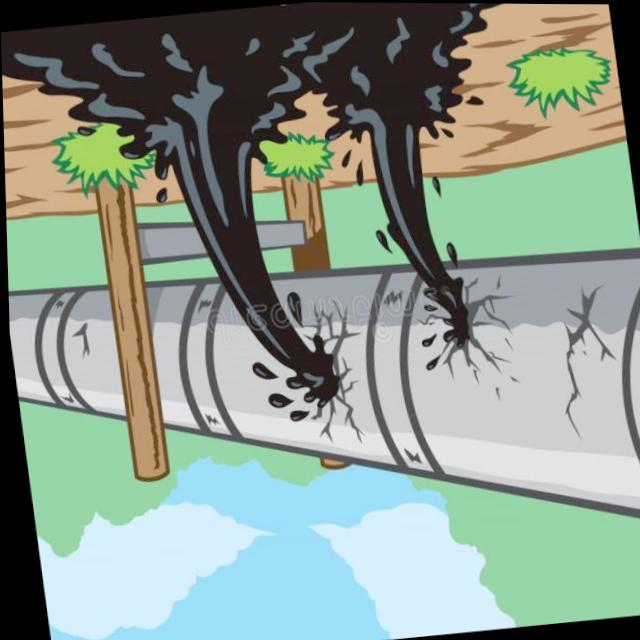leak: (1, 2, 519, 445)
